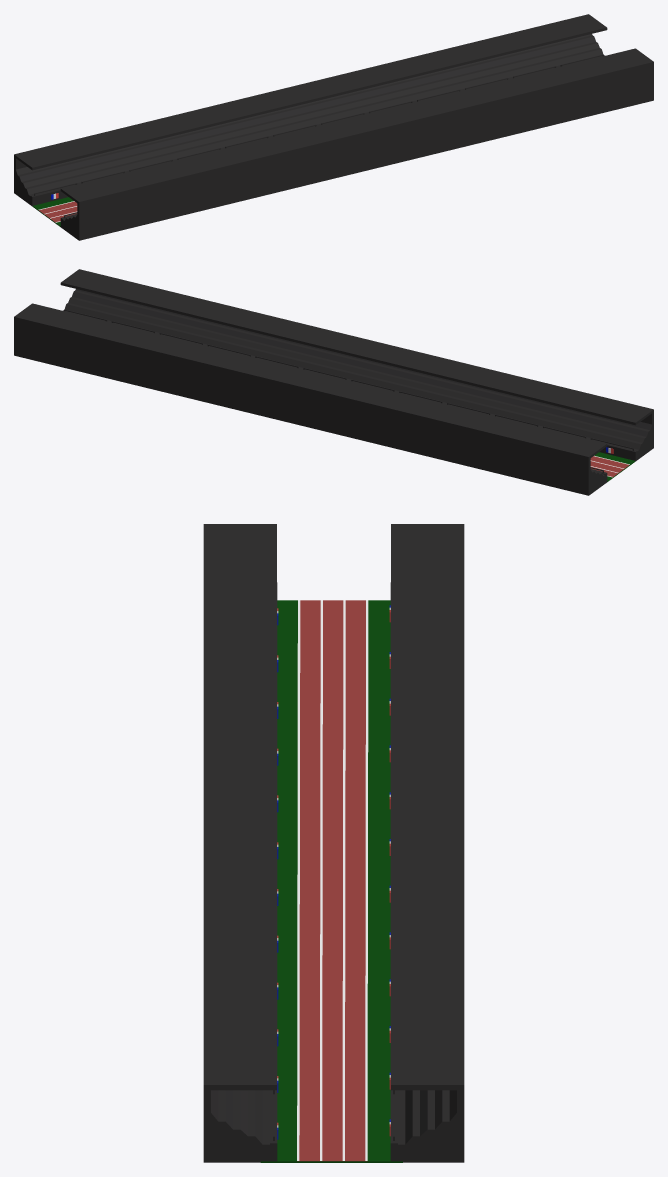
Rendered from tribun.fbx.
3 views of the same model, one above another, from view 1: azimuth 30°, elevation 25°; view 2: azimuth 150°, elevation 25°; view 3: azimuth 270°, elevation 25° (orthographic). The views are drawn at different scales.
Visible parts, largest first — view 1: Cube.001, Cube.003, Cube.004; view 2: Cube.003, Cube.001, Cube.004; view 3: Cube.003, Cube.001, Cube.004, Cube.
Part boxes in pixels (x1=…): Cube.001: x1=60, y1=48, x2=653, y2=240; Cube.003: x1=14, y1=14, x2=607, y2=206; Cube.004: x1=38, y1=201, x2=77, y2=222; Cube.003: x1=14, y1=303, x2=607, y2=495; Cube.001: x1=60, y1=269, x2=653, y2=461; Cube.004: x1=590, y1=455, x2=629, y2=477; Cube.003: x1=389, y1=524, x2=464, y2=1162; Cube.001: x1=203, y1=524, x2=278, y2=1162; Cube.004: x1=297, y1=600, x2=368, y2=1161; Cube: x1=260, y1=600, x2=402, y2=1162.
Size of the model in its own units: 58419 by 3776 by 11471.
